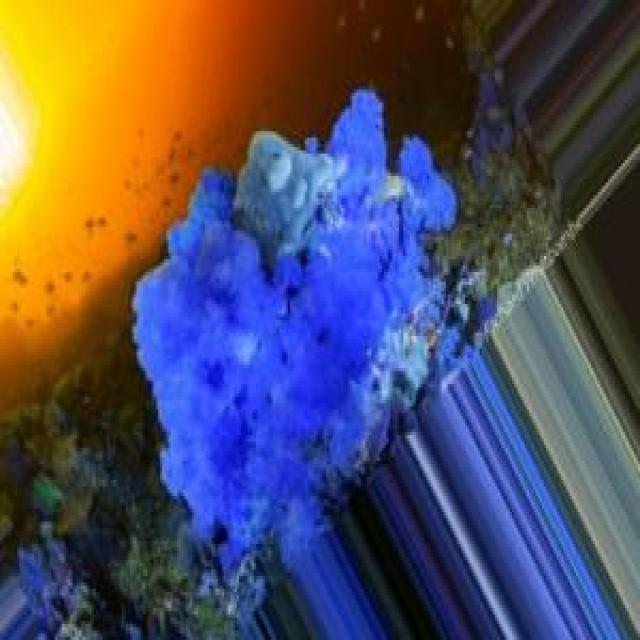Healthy: (131, 91, 460, 574)
